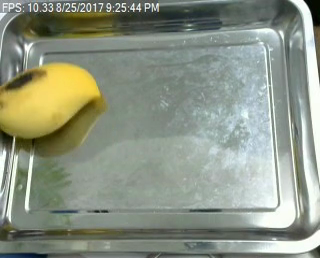Mango: (0, 60, 97, 137)
